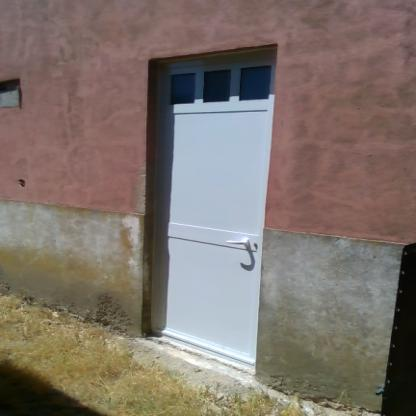door: (155, 65, 260, 361)
lever: (225, 236, 250, 248)
